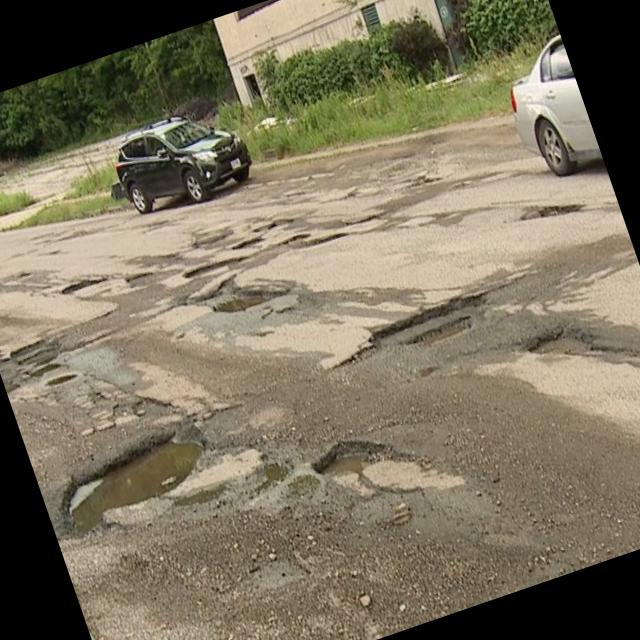Potholes: (34, 412, 237, 554), (330, 245, 516, 397), (294, 401, 448, 546), (516, 291, 640, 422), (172, 246, 304, 354), (169, 233, 254, 307), (516, 178, 590, 252), (228, 200, 299, 262), (273, 213, 354, 260)
